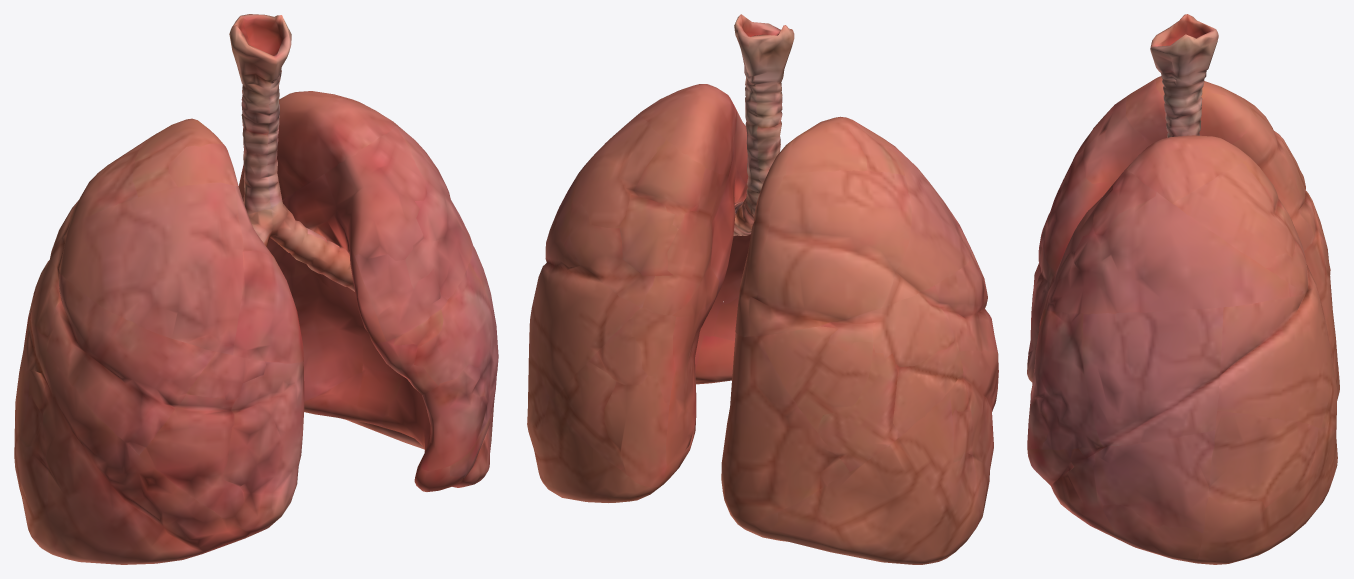
The model's file is lungs-lod2.glb.
3 views of the same model, side by side, from view 1: azimuth 30°, elevation 25°; view 2: azimuth 150°, elevation 25°; view 3: azimuth 270°, elevation 25° (orthographic). The views are drawn at different scales.
Visible parts, largest first — view 1: tripo_node_a2c7b654-b225-4f4d-9d04-c8d7d752252c; view 2: tripo_node_a2c7b654-b225-4f4d-9d04-c8d7d752252c; view 3: tripo_node_a2c7b654-b225-4f4d-9d04-c8d7d752252c.
Part boxes in pixels (x1,y1,x2,y2): tripo_node_a2c7b654-b225-4f4d-9d04-c8d7d752252c: [14, 14, 498, 564]; tripo_node_a2c7b654-b225-4f4d-9d04-c8d7d752252c: [527, 14, 998, 564]; tripo_node_a2c7b654-b225-4f4d-9d04-c8d7d752252c: [1027, 14, 1339, 564].
Size of the model in its own units: 0.902 by 0.9772 by 0.6129.
Materials: 1 (1 with a texture image).
